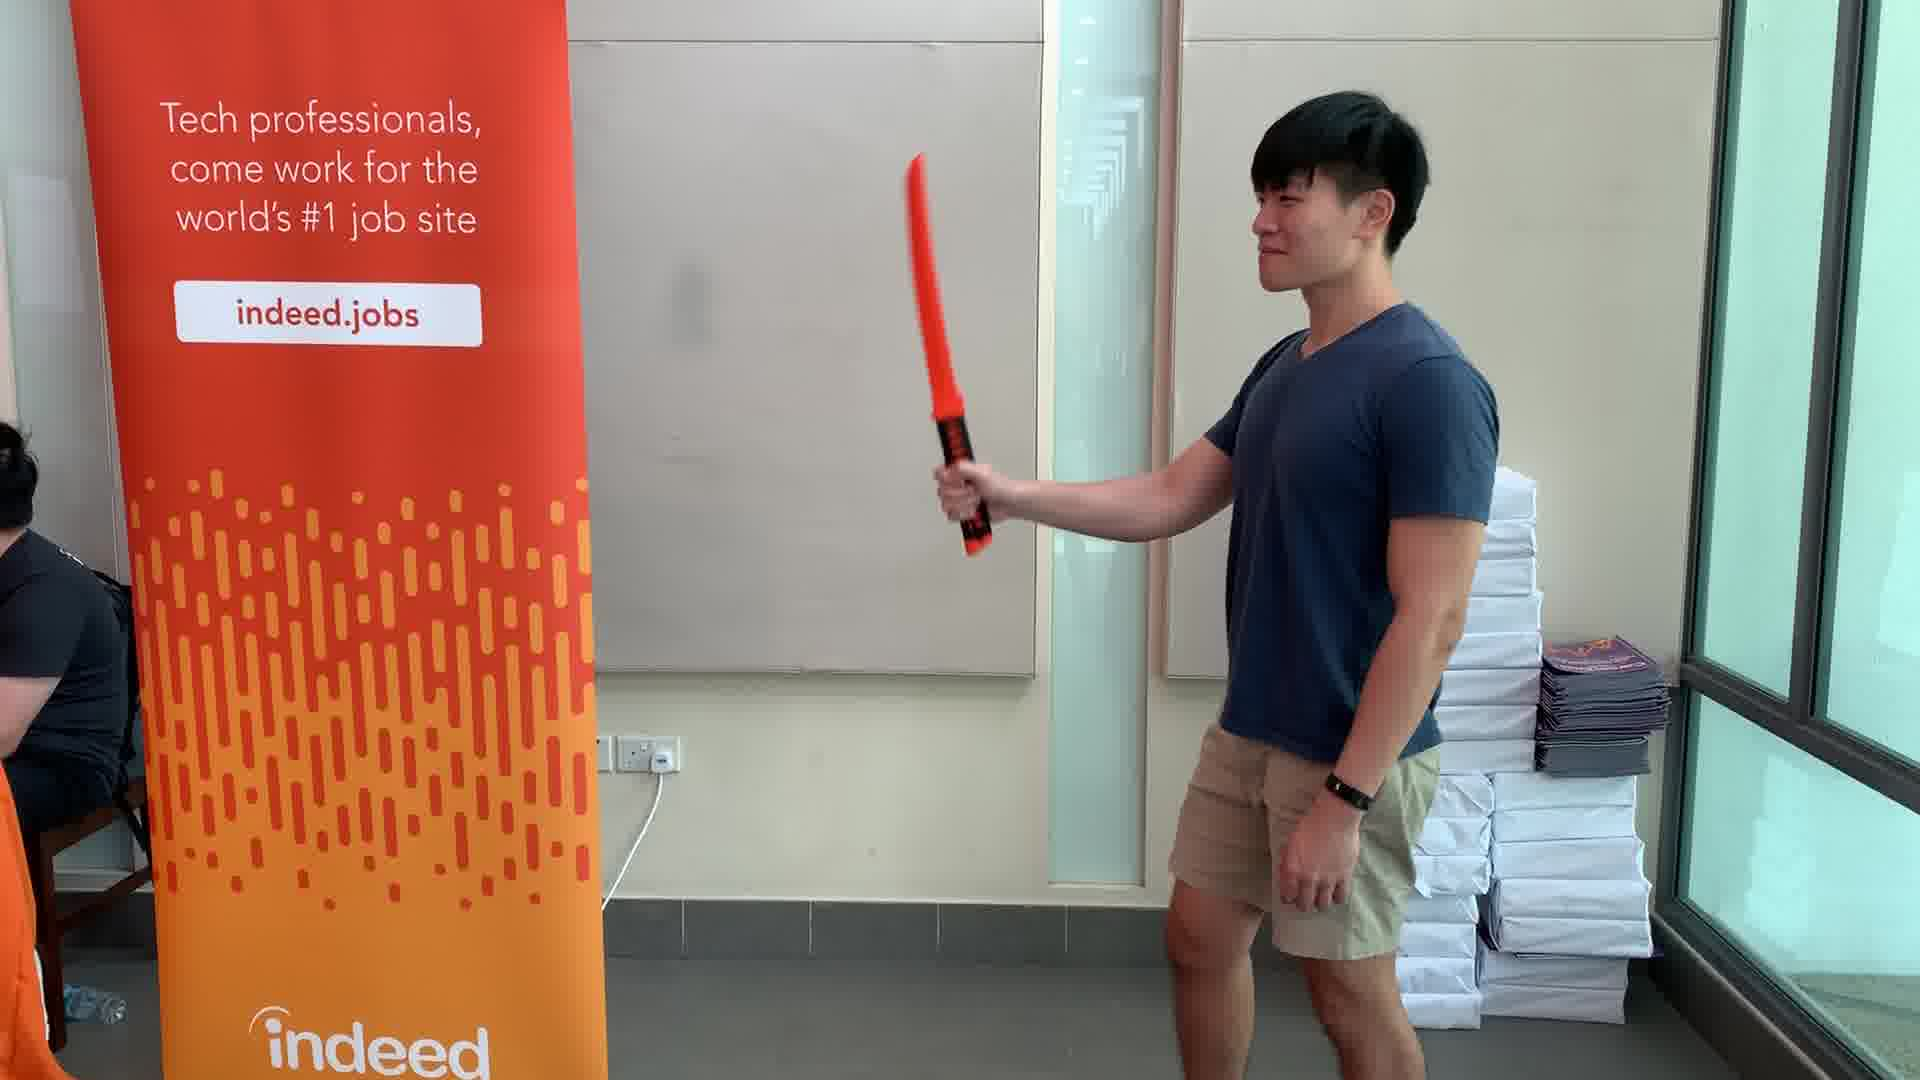knife: (890, 150, 1004, 556)
